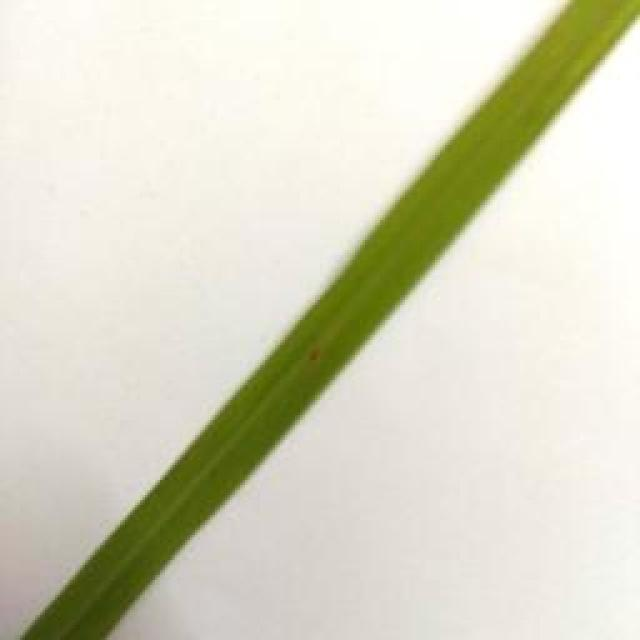Brown_Spot: (305, 334, 327, 370)
